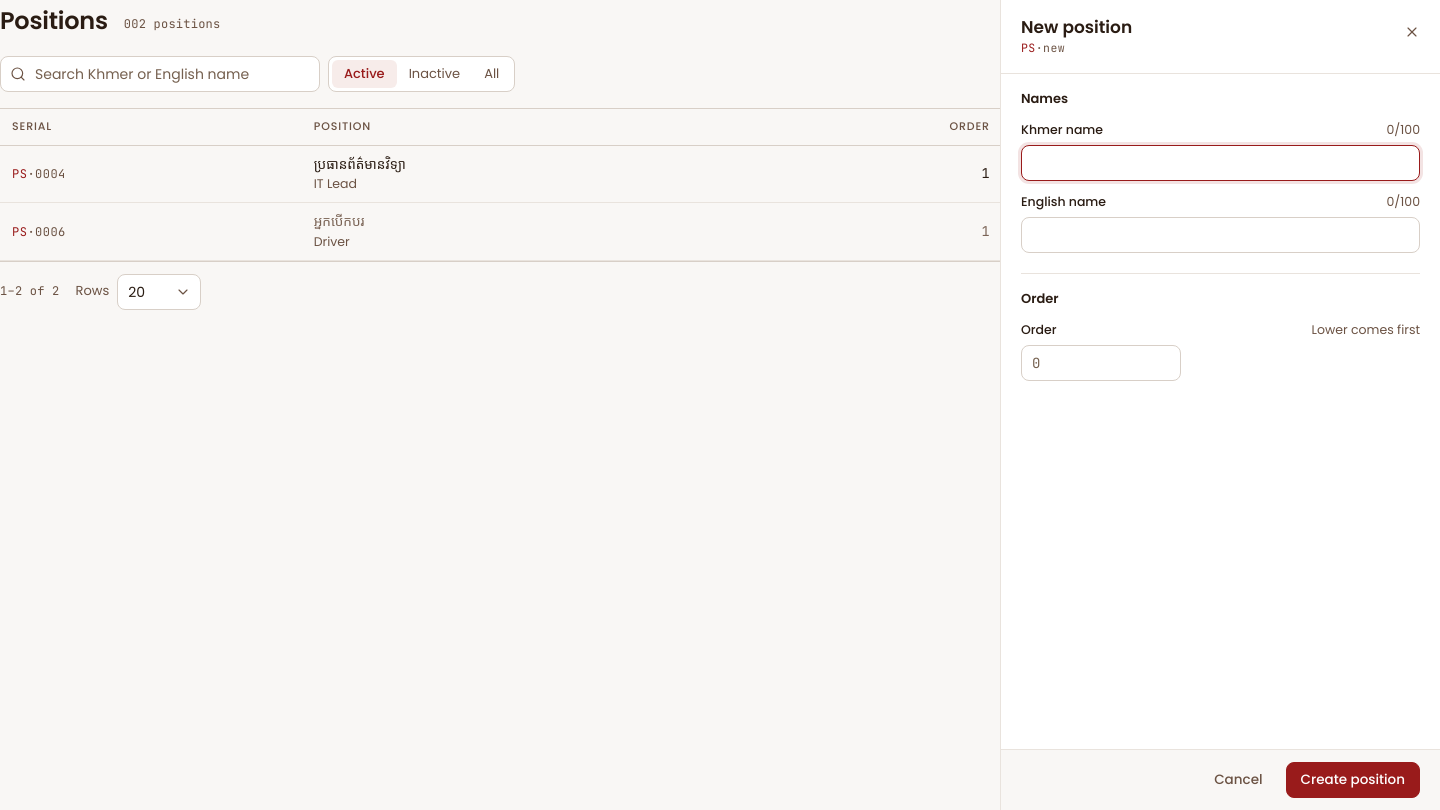
Test case: PositionsView › shows a duplicate name under the English name
The image size is (1440, 810).
Type "ប្រធាន" into the field with id "name_kh" at {"x": 1220, "y": 163}, box x1=1021 y1=145 x2=1420 y2=181
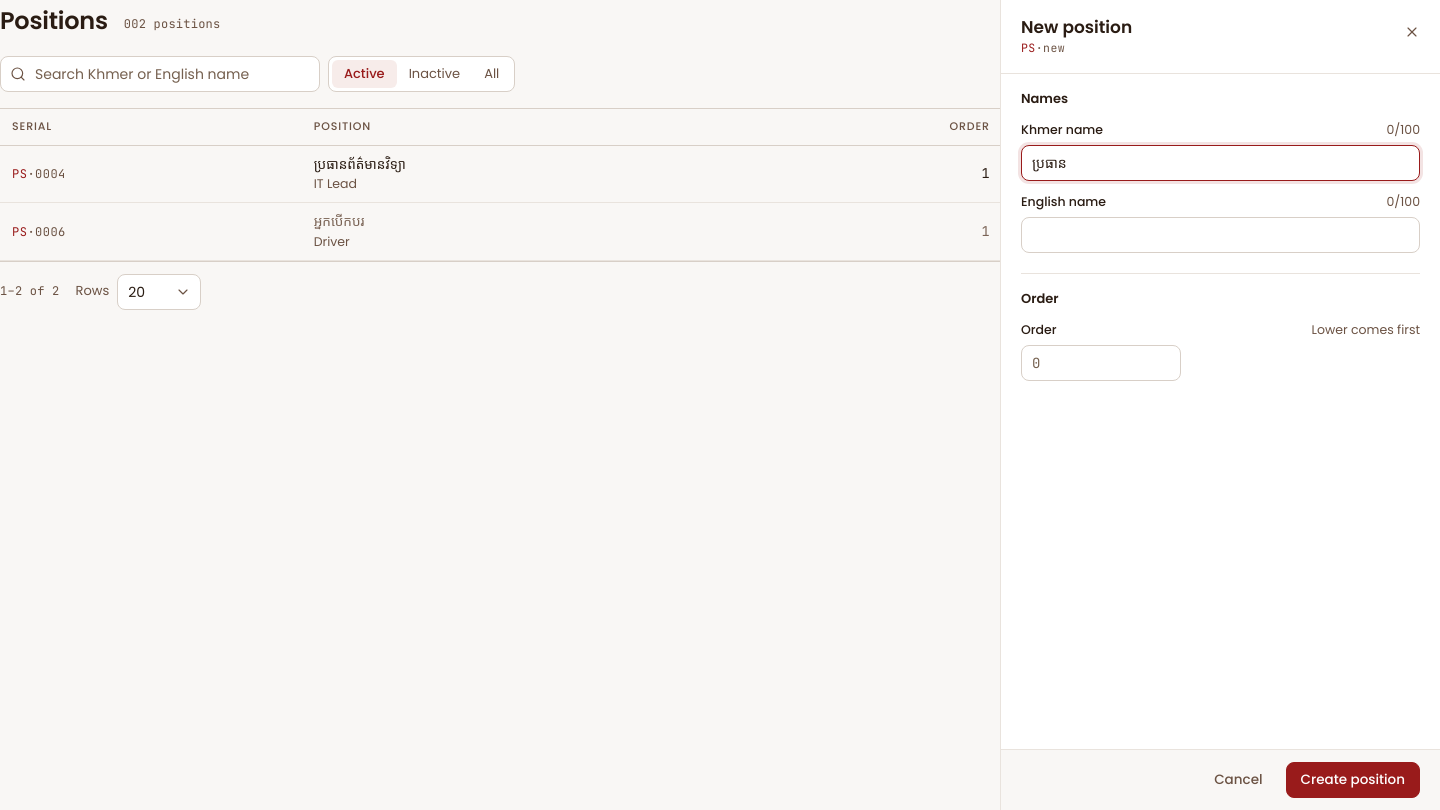
Type "IT Lead" into the field with id "name_en" at {"x": 1220, "y": 235}, box x1=1021 y1=217 x2=1420 y2=253
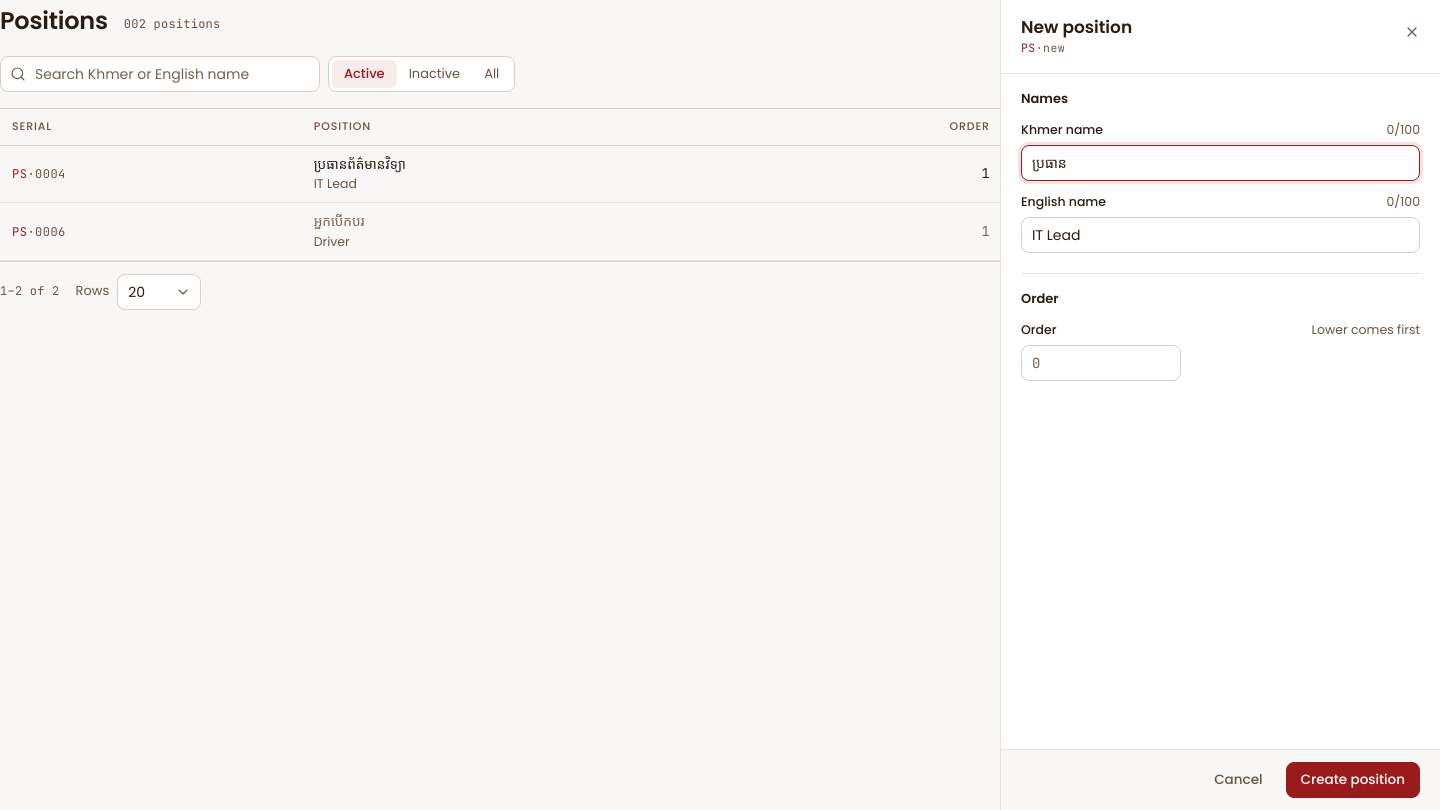
Submit the form, box x1=1021 y1=90 x2=1420 y2=381
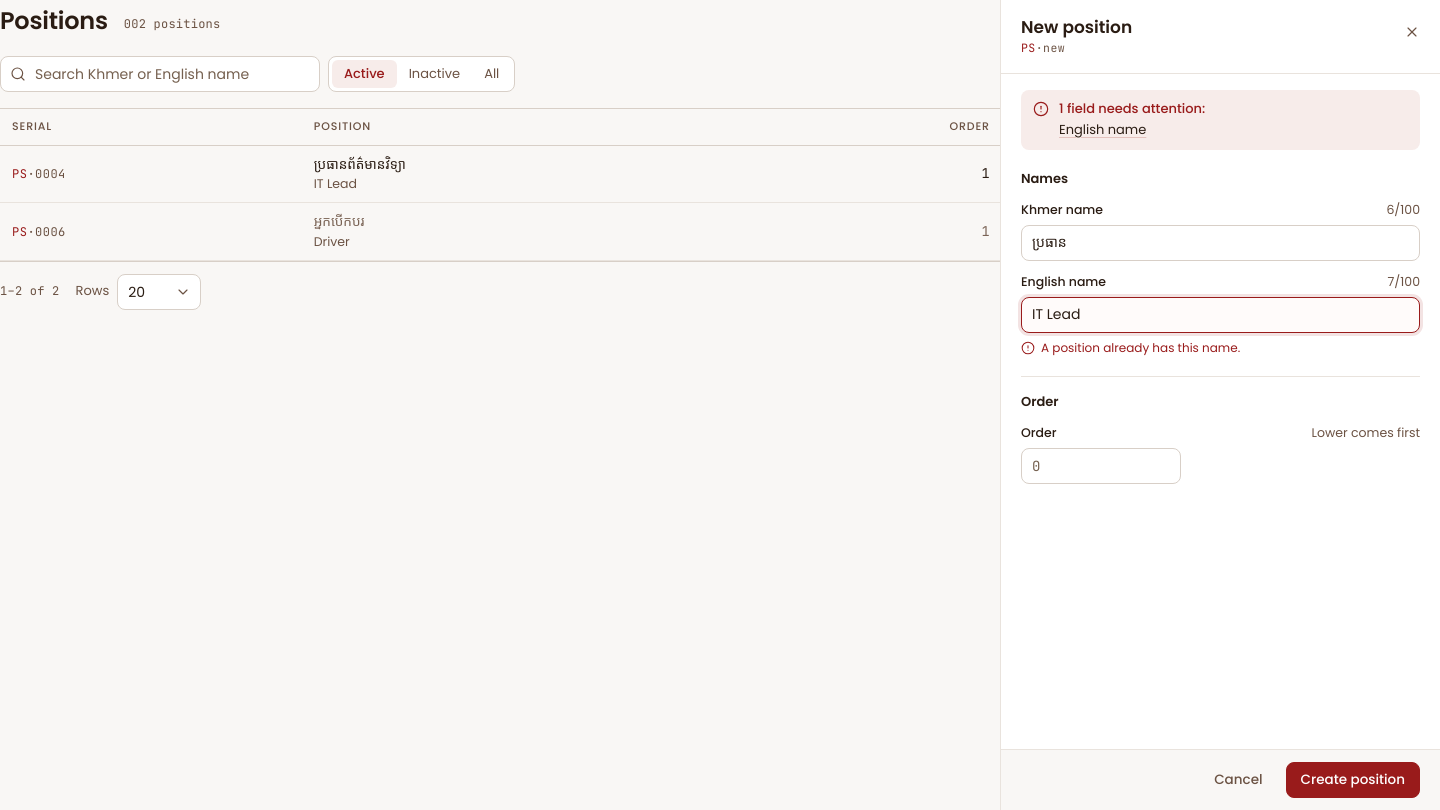
Expected: the element with id "name_en-error" reads "A position already has this name.", x1=1041 y1=339 x2=1240 y2=356
